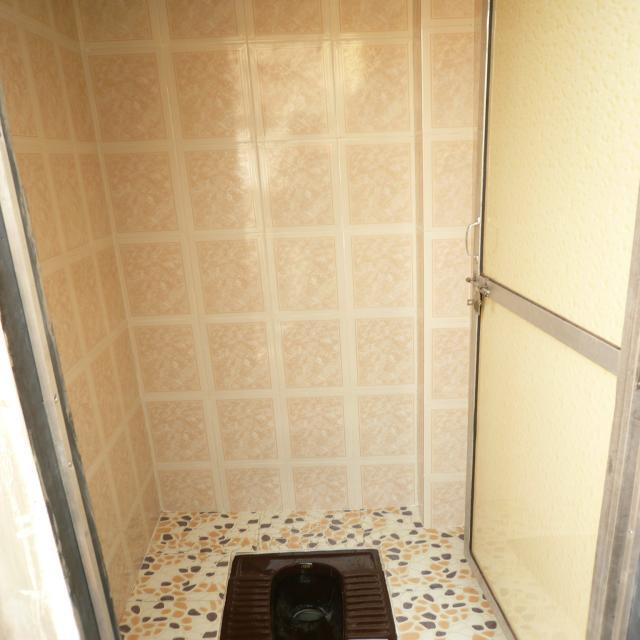dirty_floor: (1, 0, 488, 630), (117, 505, 513, 639), (217, 547, 398, 639)
